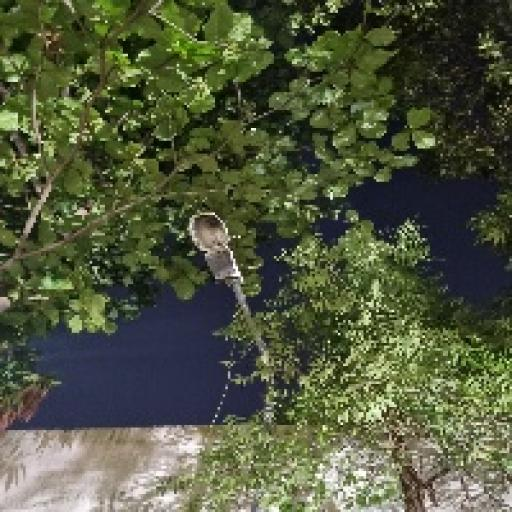Not Working: (176, 198, 253, 293)
